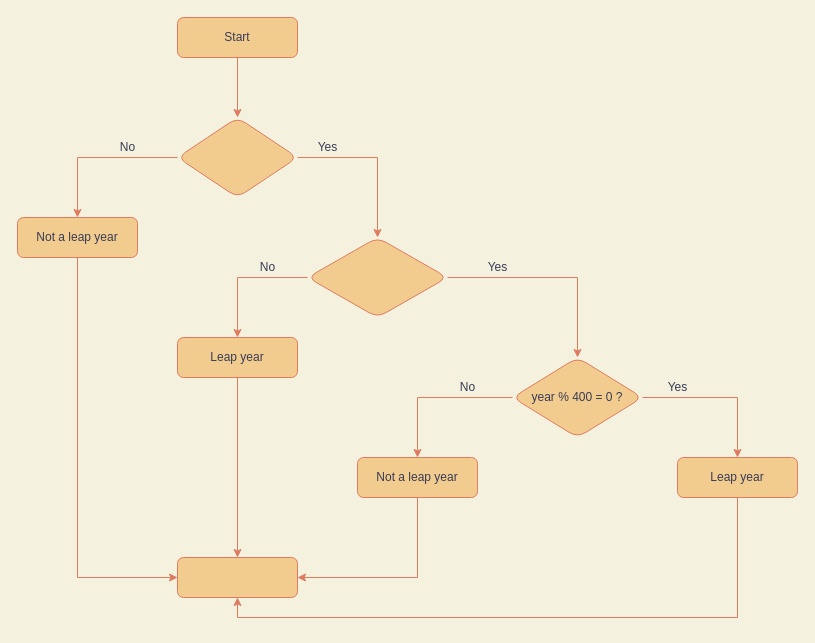
The diagram is 815 pixels wide and 643 high, and some of its shapes have lost their labels. The shapes that lost their labels are listed below. From the top down, each one's centre as x and y in pixels, then its label:
(237,157): year % 4 = 0 ?
(377,277): year % 100 = 0 ?
(237,577): Stop
